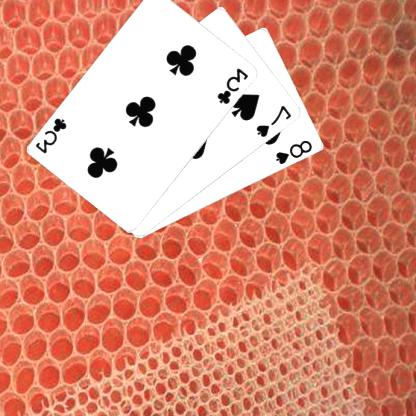3C: (216, 65, 252, 106), (34, 115, 70, 155)
7S: (256, 102, 296, 139)
8S: (275, 137, 316, 166)
